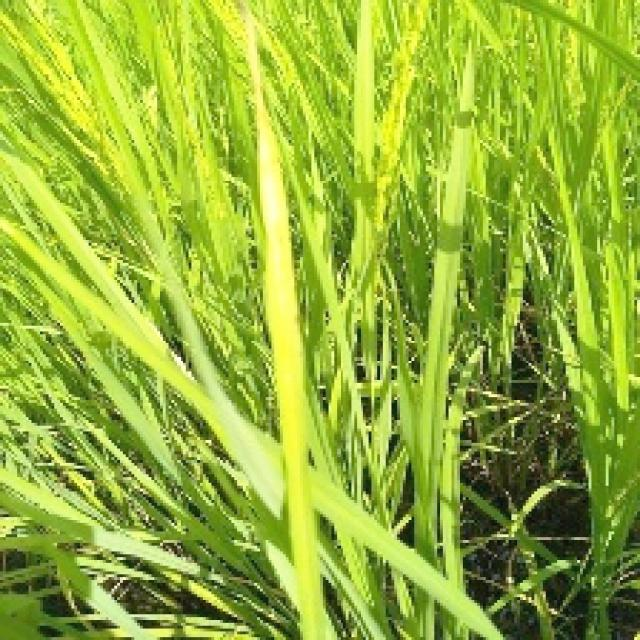health: (0, 0, 631, 597)
